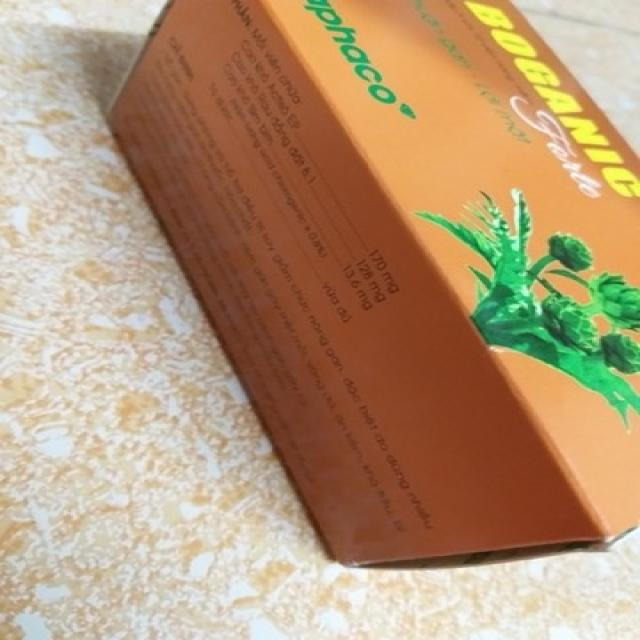PaperCardboard: (102, 0, 640, 575)
